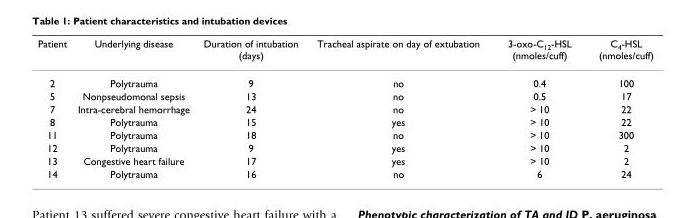table: (36, 37, 652, 179)
table column: (306, 37, 492, 179), (71, 37, 195, 179), (195, 37, 306, 179), (492, 37, 584, 179), (584, 37, 652, 179), (36, 37, 71, 179)
table column header: (36, 37, 652, 68)
table row: (36, 37, 652, 68), (36, 68, 652, 89), (36, 89, 652, 102), (36, 102, 652, 115), (36, 115, 652, 128), (36, 128, 652, 141), (36, 153, 652, 166), (36, 166, 652, 179), (36, 141, 652, 153)
